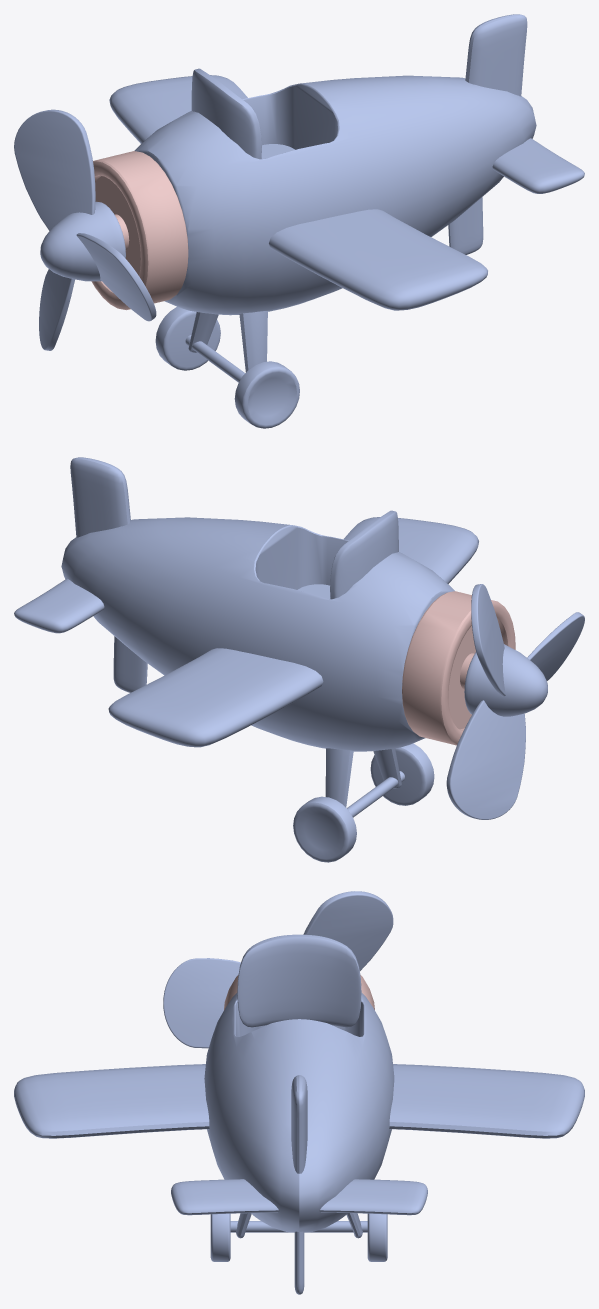
File: CarnivalPlane.glb
3 views of the same model, one above another, from view 1: azimuth 30°, elevation 25°; view 2: azimuth 150°, elevation 25°; view 3: azimuth 270°, elevation 25° (orthographic). The views are drawn at different scales.
Parts seen in each view (by area): view 1: CarnivalPlane00, CarnivalPlaneW00; view 2: CarnivalPlane00, CarnivalPlaneW00; view 3: CarnivalPlane00, CarnivalPlaneW00.
Part boxes in pixels (x1,y1,x2,y2): CarnivalPlane00: (91,14,584,428); CarnivalPlaneW00: (14,109,156,350); CarnivalPlane00: (14,457,515,862); CarnivalPlaneW00: (446,584,584,819); CarnivalPlane00: (14,934,584,1294); CarnivalPlaneW00: (163,891,393,1048).
Size of the model in its own units: 0.6274 by 0.3883 by 0.6356.
